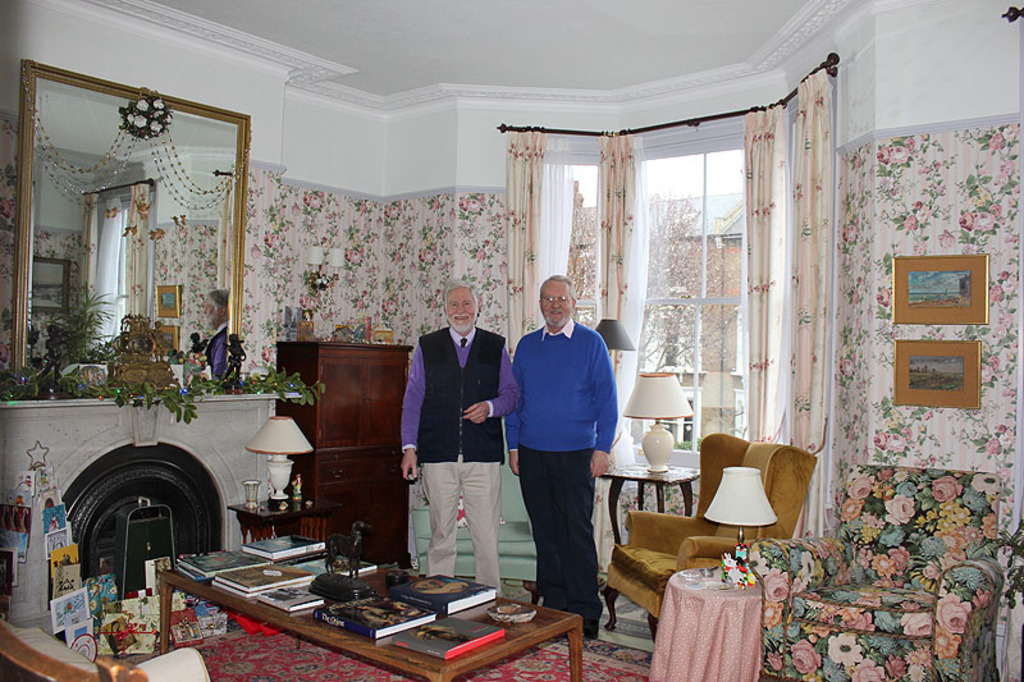Cabinetry: (320, 459, 422, 571)
